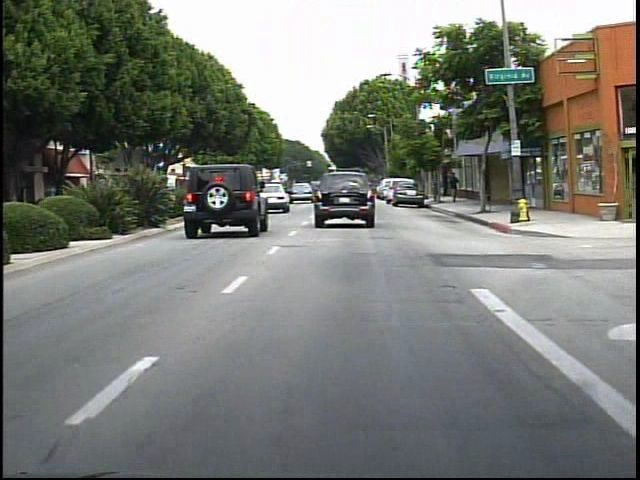person: (443, 169, 464, 206)
